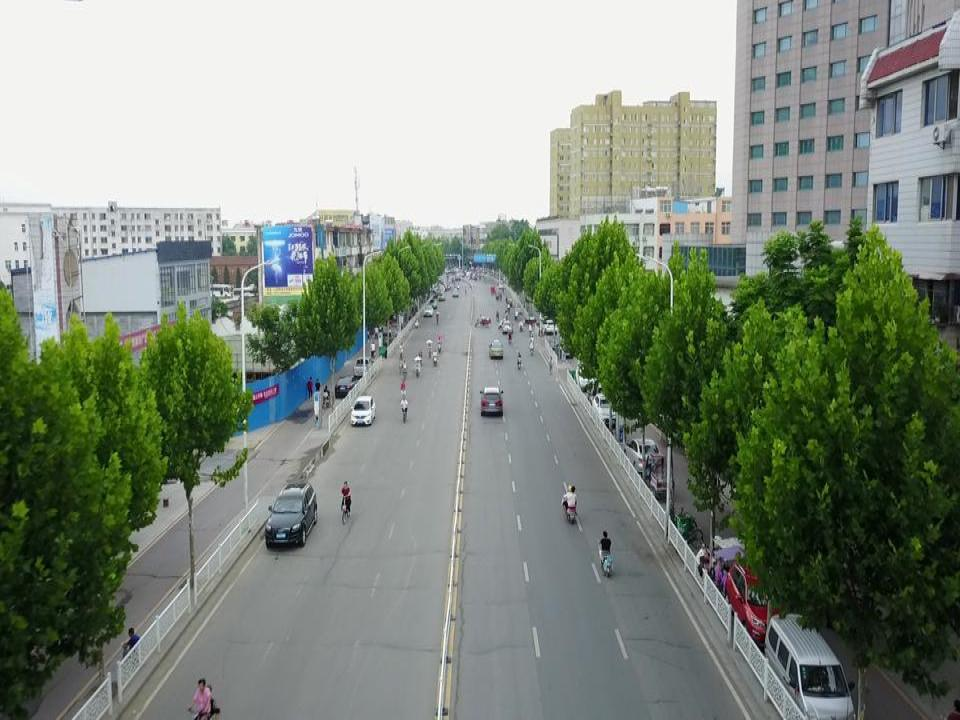car: (723, 557, 785, 647), (264, 481, 318, 548), (623, 439, 664, 477), (591, 392, 617, 427), (350, 395, 376, 425), (479, 385, 504, 415), (334, 374, 359, 398), (541, 318, 559, 338), (488, 338, 504, 358), (380, 328, 392, 348), (502, 320, 514, 333), (390, 322, 399, 338), (423, 304, 433, 317), (428, 299, 438, 309), (451, 288, 459, 297), (438, 292, 446, 301)
truck: (353, 356, 375, 380)
van: (762, 612, 858, 720), (575, 356, 598, 391)
